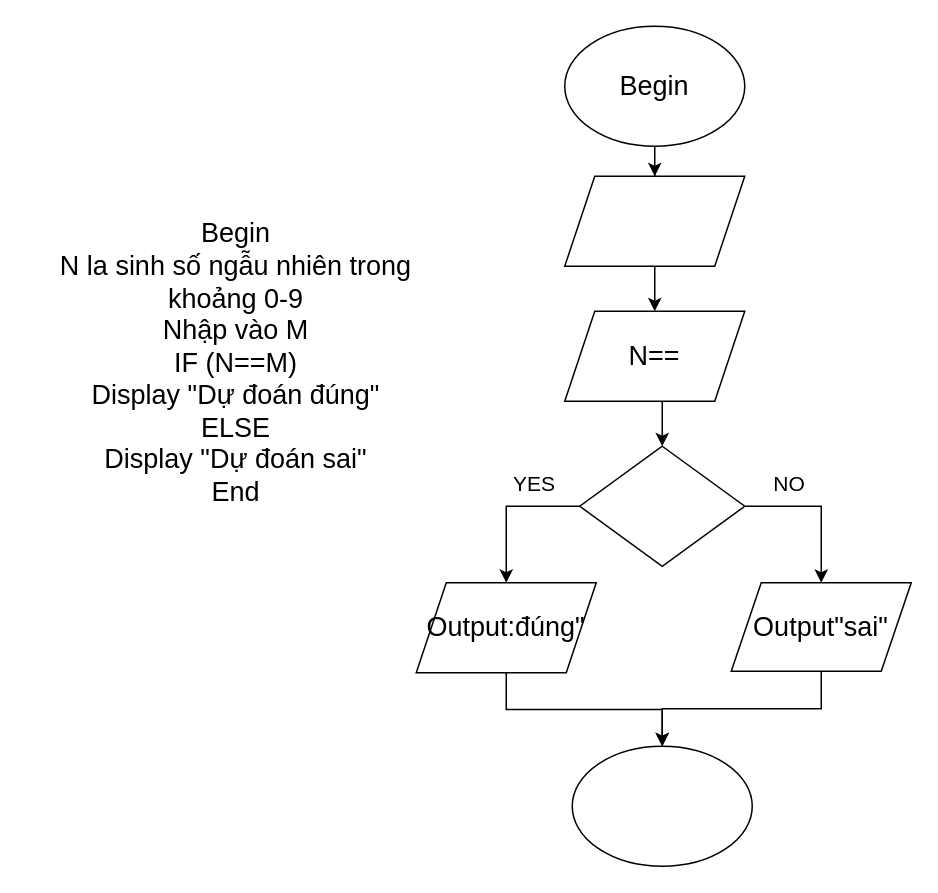
Some shapes in this 938 by 893 pixel diagram are drawn without their labels. The shapes that lost their labels are listed below. From the top down, each one's centre as x and y in pixels, then its label:
At [654,220]: "Input N ngẫu nhiên từ 0-9".
At [661,805]: "End".
